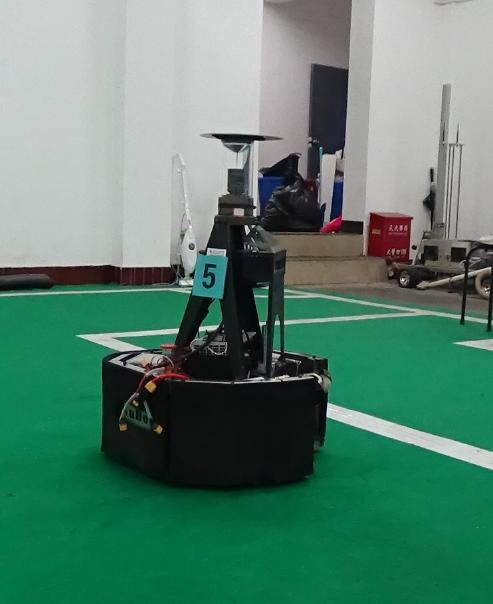robot: (93, 118, 338, 500)
